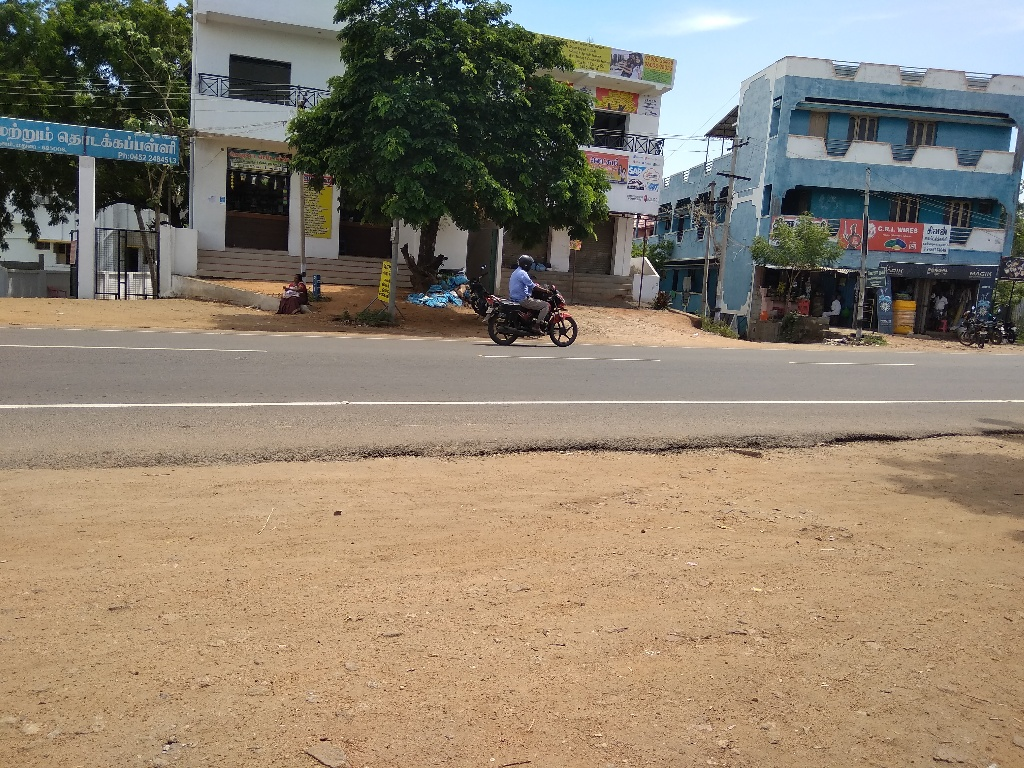biker: (479, 233, 584, 356)
helmet: (513, 245, 546, 283)
